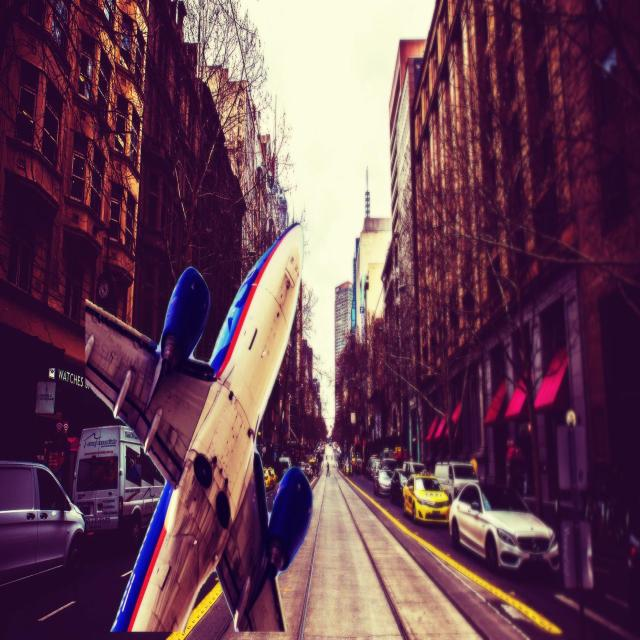airplane: (82, 220, 312, 638)
